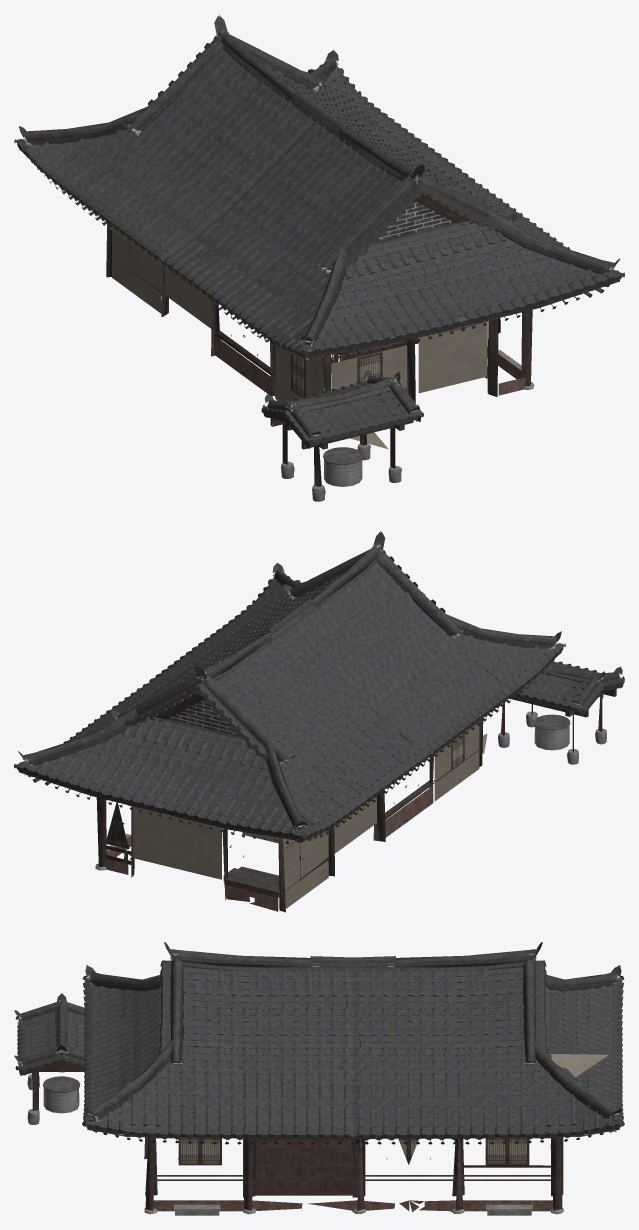
The model's file is giwa_sarangchae.glb.
3 views of the same model, one above another, from view 1: azimuth 30°, elevation 25°; view 2: azimuth 150°, elevation 25°; view 3: azimuth 270°, elevation 25° (orthographic). The views are drawn at different scales.
Parts seen in each view (by area): view 1: Sarangchae, Sarangchae_Roof_Concrete_01_m_0.001, Sarangchae_Roof_Concrete_01_m_0.002, Sarangchae_Roof_Concrete_01_m_0.003, Sarangchae_Roof_Concrete_01_m_0.004; view 2: Sarangchae, Sarangchae_Roof_Concrete_01_m_0.001, Sarangchae_Roof_Concrete_01_m_0.002, Sarangchae_Roof_Concrete_01_m_0.003, Sarangchae_Roof_Concrete_01_m_0.004; view 3: Sarangchae, Sarangchae_Roof_Concrete_01_m_0.002, Sarangchae_Roof_Concrete_01_m_0.003, Sarangchae_Roof_Concrete_01_m_0.001, Sarangchae_Roof_Concrete_01_m_0.004.
Part boxes in pixels (box(x1,y1,x2,y2)): Sarangchae: box(21, 45, 623, 501); Sarangchae_Roof_Concrete_01_m_0.001: box(14, 15, 624, 444); Sarangchae_Roof_Concrete_01_m_0.002: box(38, 50, 560, 254); Sarangchae_Roof_Concrete_01_m_0.003: box(303, 67, 622, 356); Sarangchae_Roof_Concrete_01_m_0.004: box(17, 65, 416, 444); Sarangchae: box(15, 559, 623, 912); Sarangchae_Roof_Concrete_01_m_0.001: box(14, 531, 624, 840); Sarangchae_Roof_Concrete_01_m_0.002: box(19, 575, 423, 825); Sarangchae_Roof_Concrete_01_m_0.003: box(19, 577, 562, 805); Sarangchae_Roof_Concrete_01_m_0.004: box(15, 662, 600, 840); Sarangchae: box(16, 961, 623, 1215); Sarangchae_Roof_Concrete_01_m_0.002: box(97, 966, 620, 1140); Sarangchae_Roof_Concrete_01_m_0.003: box(83, 967, 618, 1140); Sarangchae_Roof_Concrete_01_m_0.001: box(14, 942, 624, 1140); Sarangchae_Roof_Concrete_01_m_0.004: box(18, 978, 623, 1127).
Bounding box in the file's own units: 13.26 × 8.68 × 21.21.
15 materials, 15 textured.
